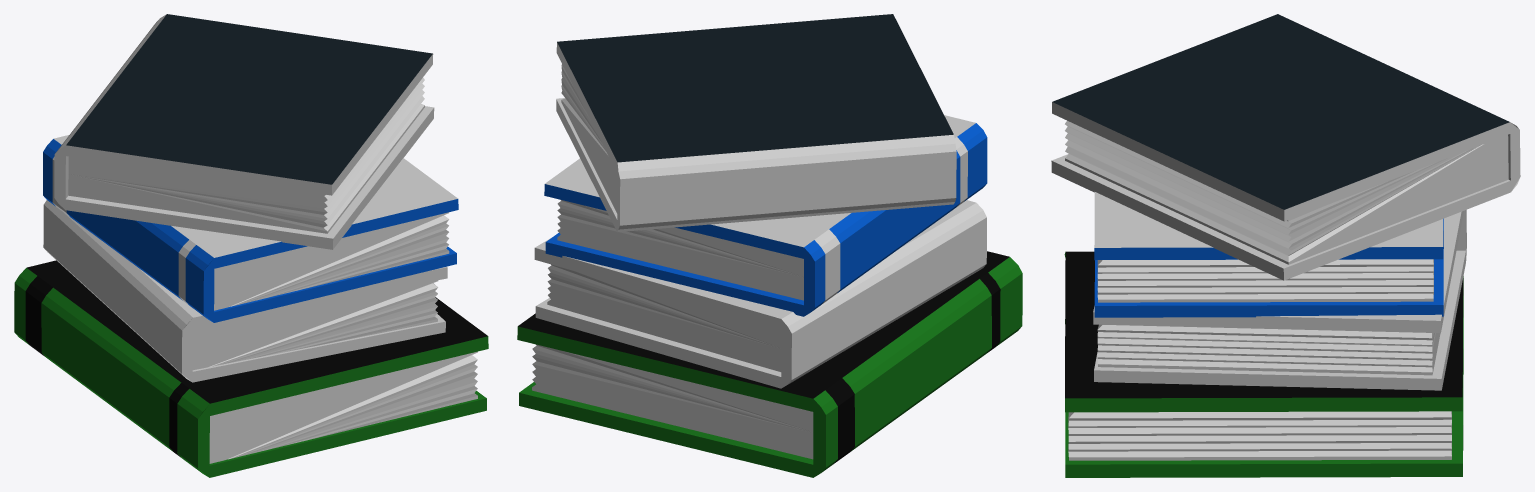
3 renders of one model, left to right at view 1: azimuth 30°, elevation 25°; view 2: azimuth 150°, elevation 25°; view 3: azimuth 270°, elevation 25°, orthographic. The views are drawn at different scales.
Size of the model in its own units: 0.8628 by 0.5972 by 0.8581.
